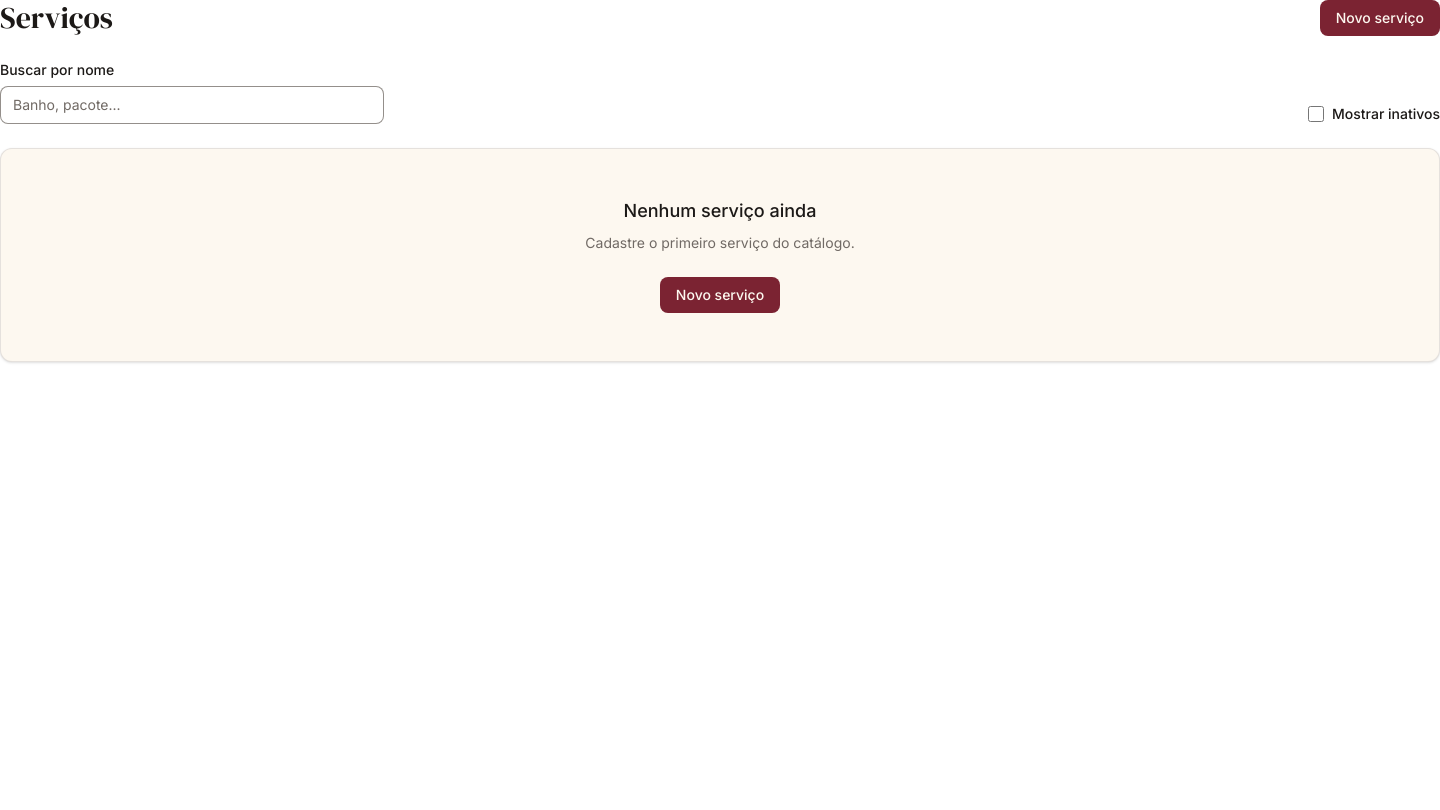
it: Servicos › cria um serviço pelo modal e fecha
expect the text "Nenhum serviço ainda" is shown: met, box x1=624 y1=197 x2=816 y2=225
Click the button "Novo serviço" in the row of "Serviços" at {"x": 1380, "y": 18}, box x1=1320 y1=0 x2=1439 y2=36
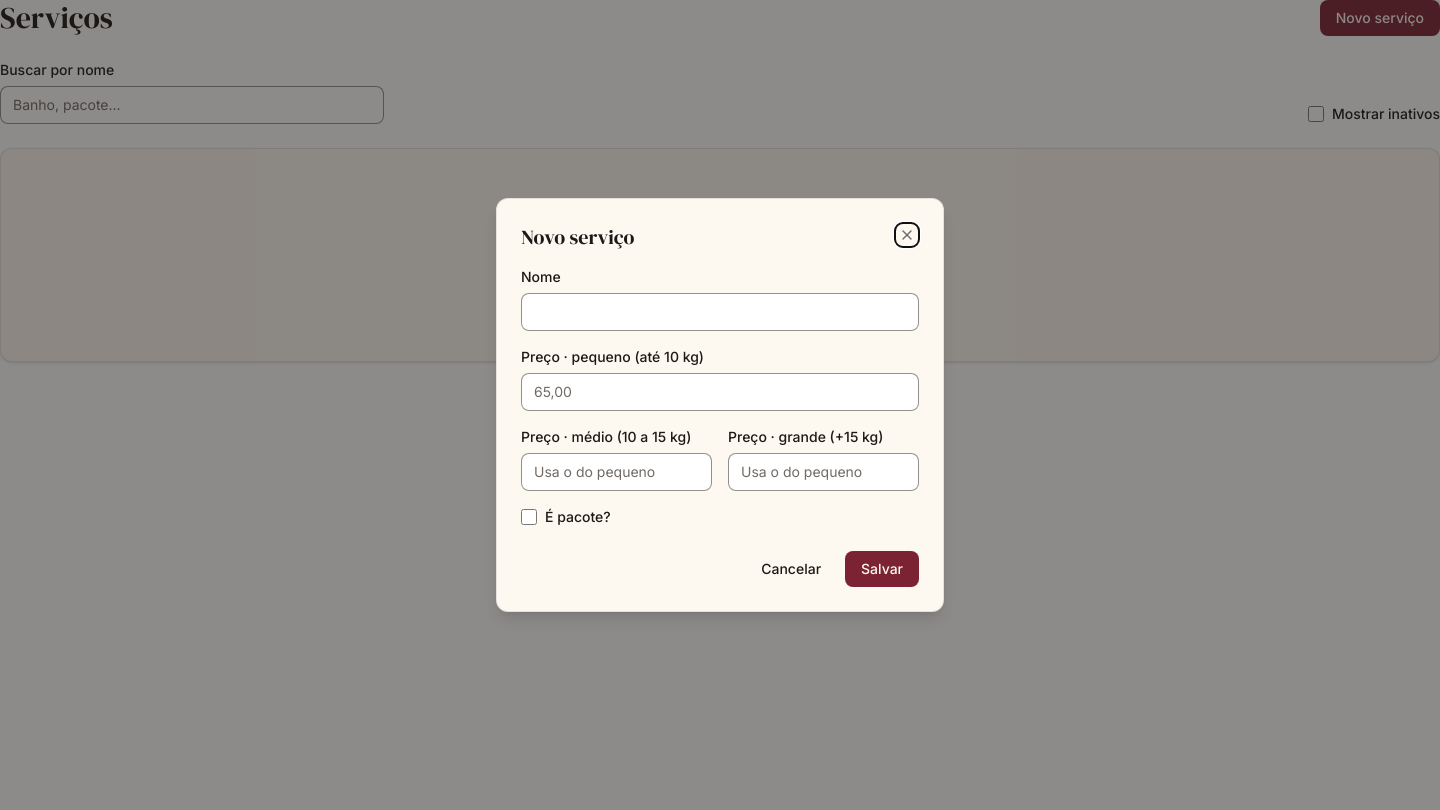
Type "Tosa" into the field labelled "Nome" at {"x": 720, "y": 312}, box x1=521 y1=293 x2=919 y2=331
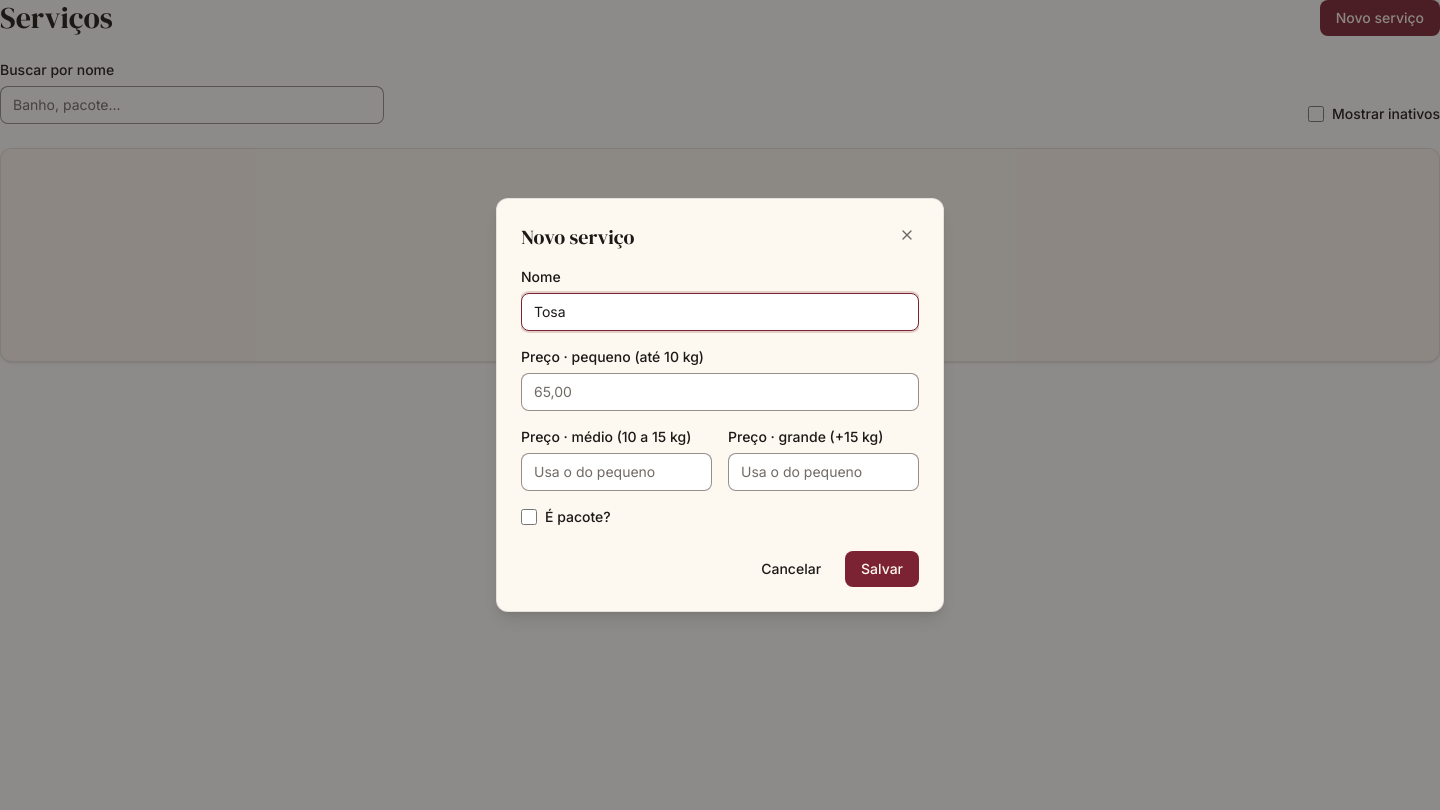
Type "40.00" into the field labelled "Preço · pequeno (até 10 kg)" at {"x": 720, "y": 392}, box x1=521 y1=373 x2=919 y2=411
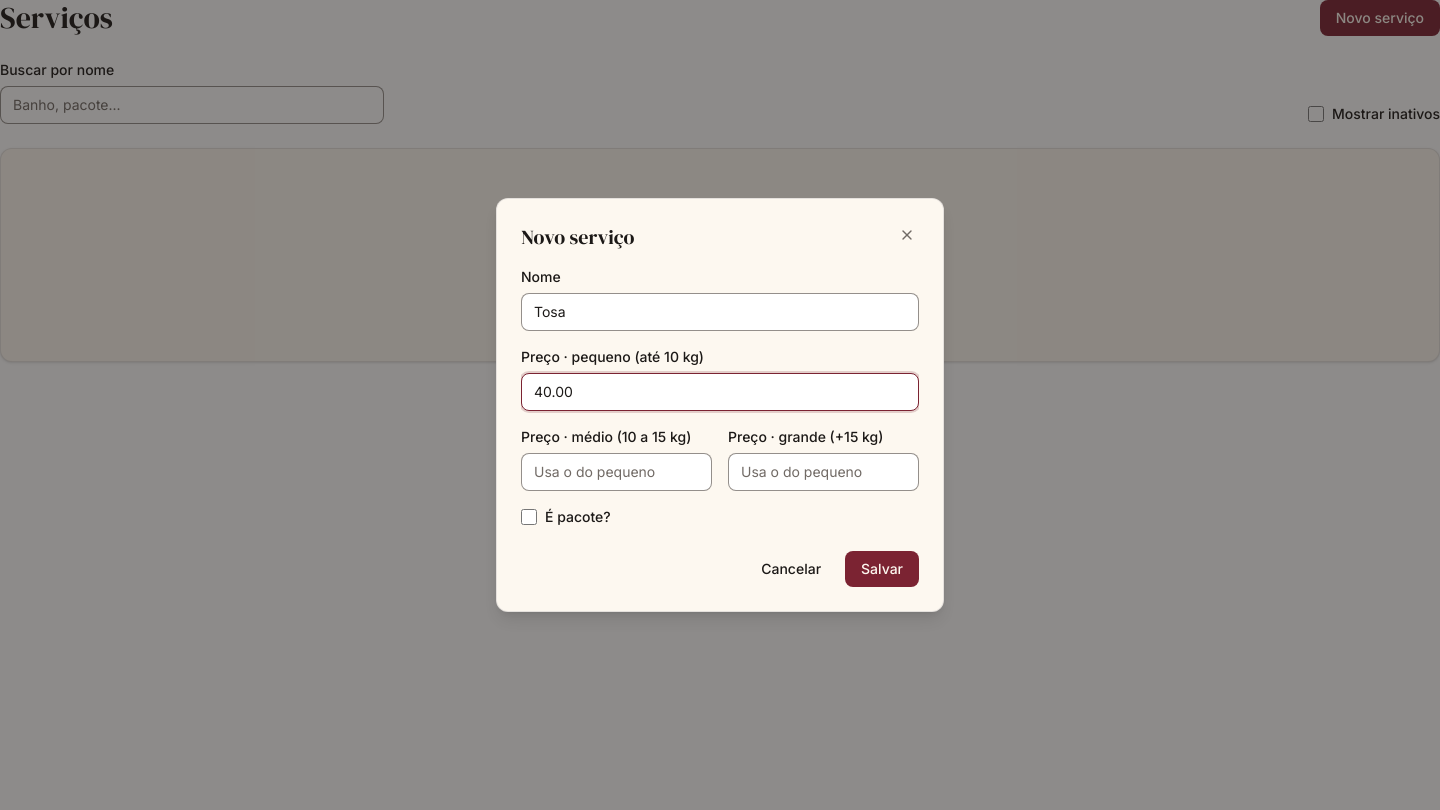
Click the button "Salvar" at {"x": 882, "y": 569}, box x1=845 y1=551 x2=919 y2=587
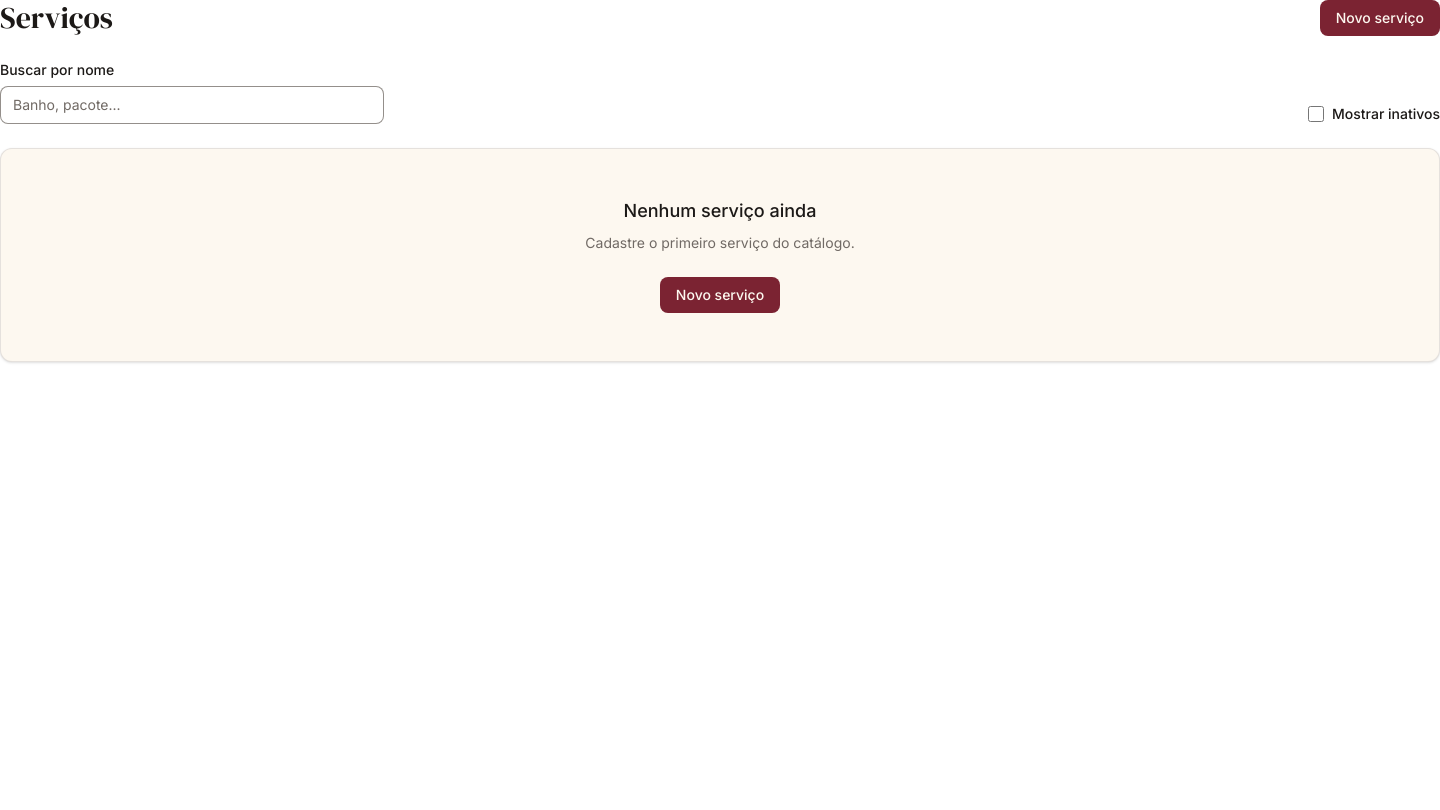
expect the dialog is gone: met
